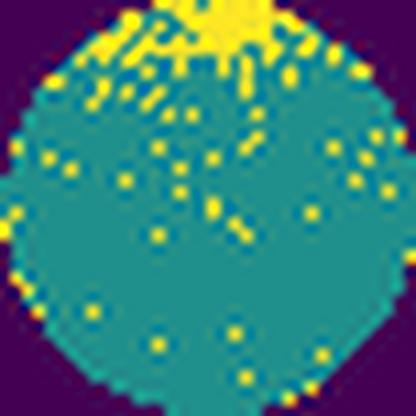Edge-Loc: (73, 0, 350, 87)
